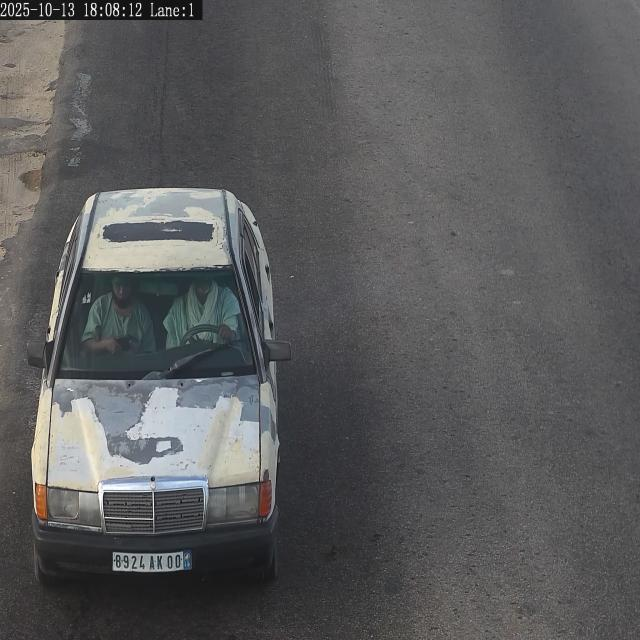BUS: (113, 551, 191, 572)
